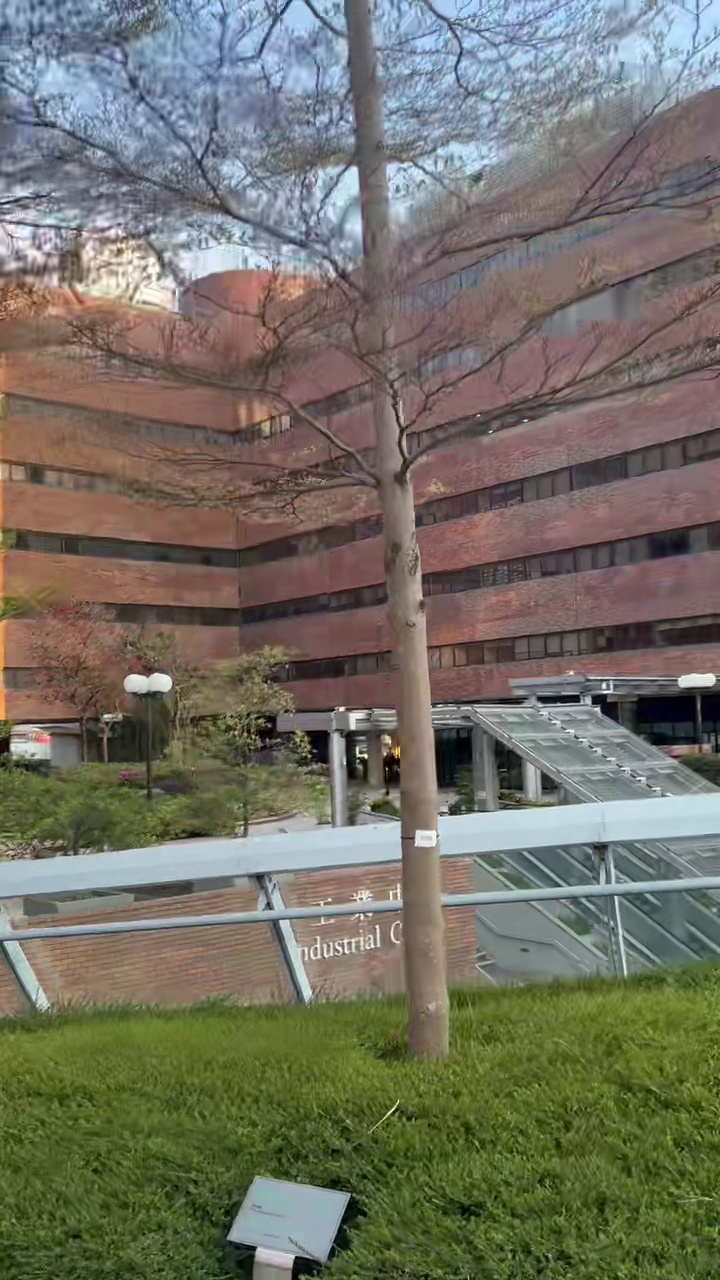Terminalia mantaly: (0, 0, 719, 1058)
